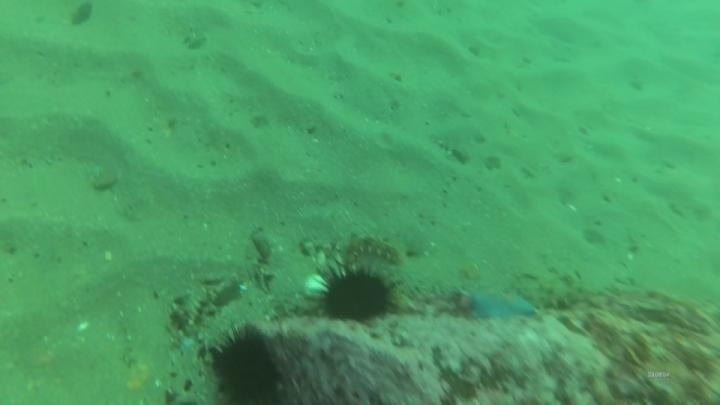echinus: (207, 323, 286, 405), (313, 260, 399, 328)
holothurian: (515, 268, 590, 314), (338, 231, 407, 268)
starfish: (462, 283, 539, 325)
